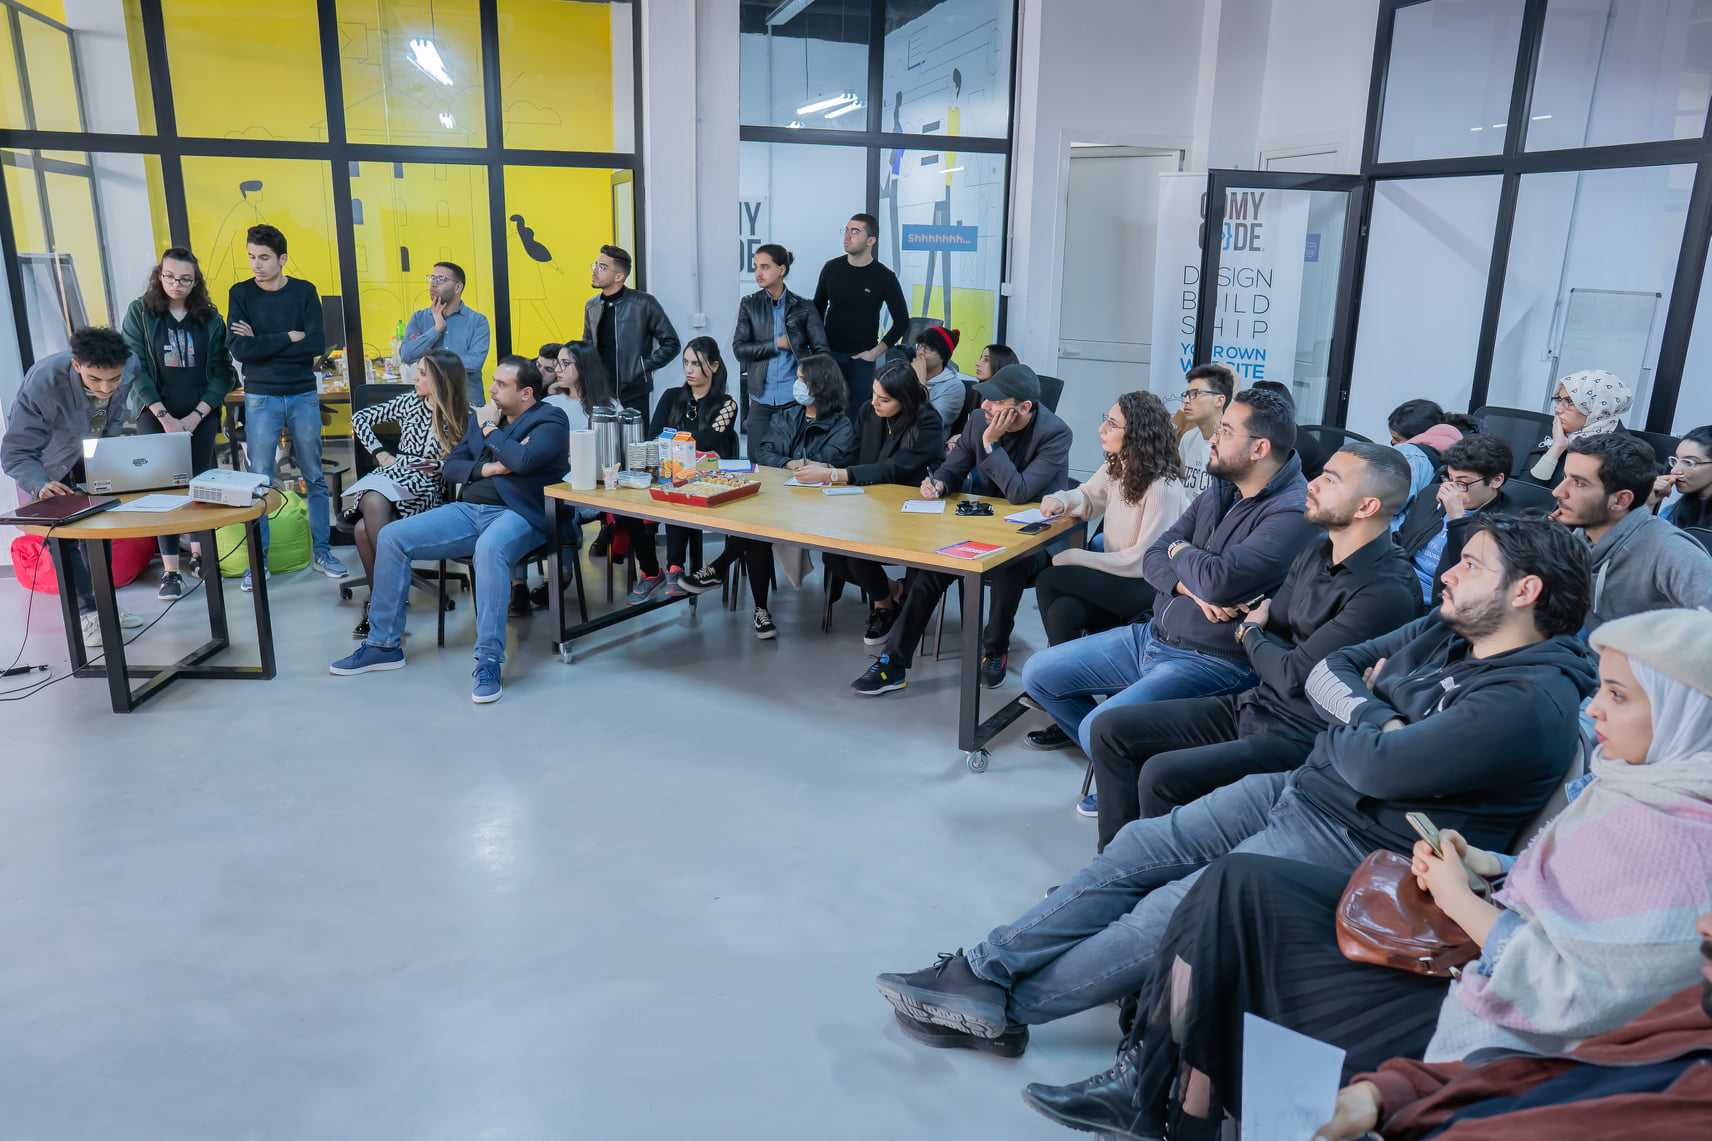without_mask: (1585, 673, 1653, 769), (1438, 545, 1502, 628), (1300, 454, 1364, 526), (1099, 400, 1139, 458), (1211, 418, 1244, 475), (247, 241, 280, 280), (159, 269, 193, 299), (681, 357, 708, 386)
